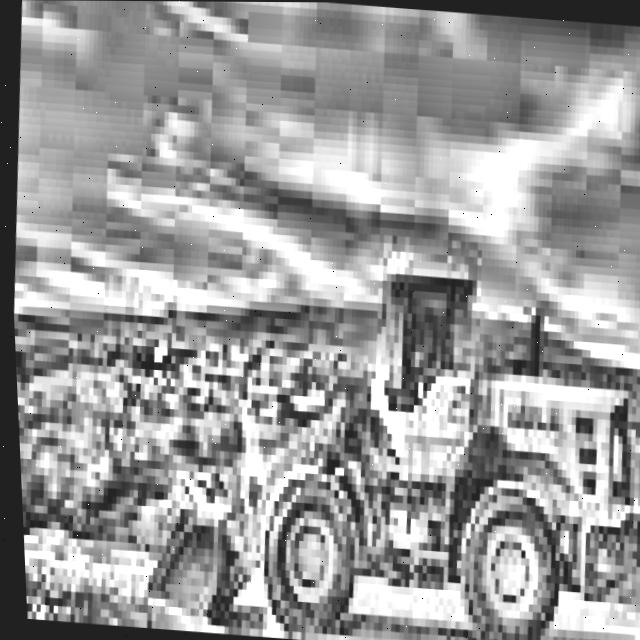buldozerpayloadergrader: (114, 224, 640, 640)
